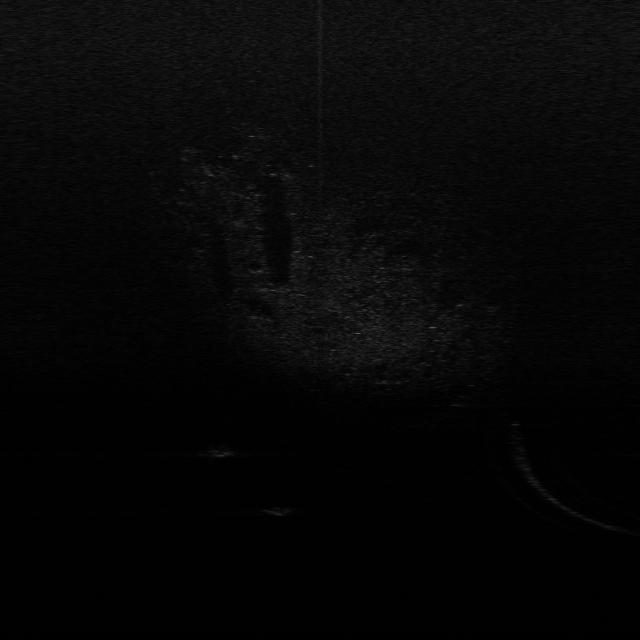cube: (260, 495, 296, 520)
square cage: (196, 435, 240, 463)
